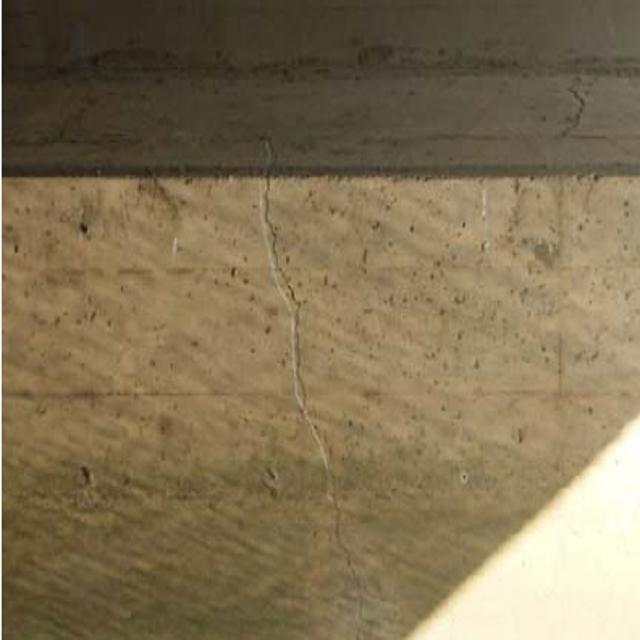crack: (253, 128, 373, 608), (540, 44, 597, 146)
